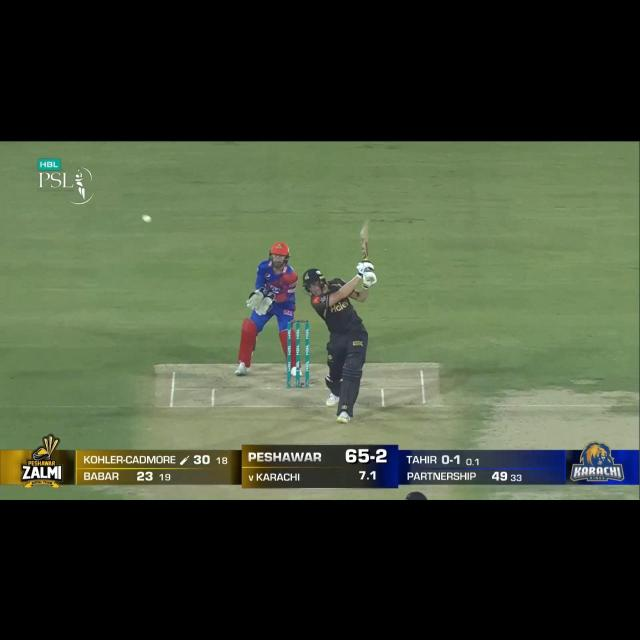bat: (361, 222, 368, 258)
toe: (361, 225, 370, 236)
